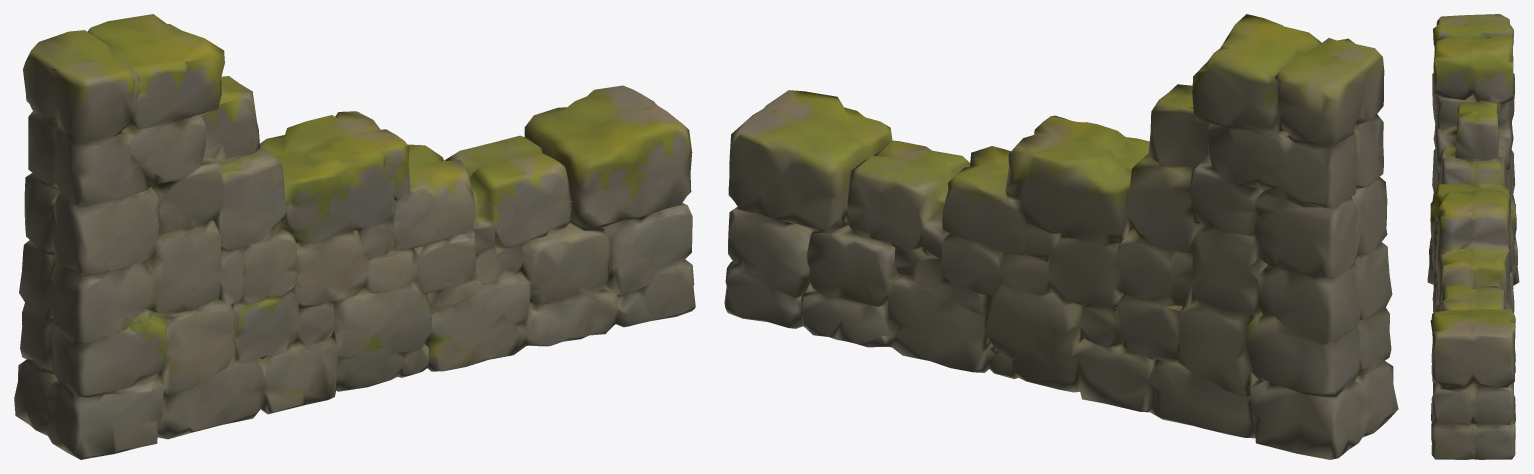
Rendered from SM_FR_Wall.fbx.
The picture shows the model from 3 angles, left to right: view 1: azimuth 30°, elevation 25°; view 2: azimuth 150°, elevation 25°; view 3: azimuth 270°, elevation 25°; orthographic projection. The views are drawn at different scales.
Parts seen in each view (by area): view 1: SM_FR_Wall; view 2: SM_FR_Wall; view 3: SM_FR_Wall.
Boxes of the visible parts, box(x1,y1,x2,y2) form: SM_FR_Wall: box(14, 14, 695, 459); SM_FR_Wall: box(724, 14, 1398, 459); SM_FR_Wall: box(1427, 14, 1519, 459).
Bounding box in the file's own units: 4.11 × 2.4 × 0.7943.
Materials: 1 (1 with a texture image).
